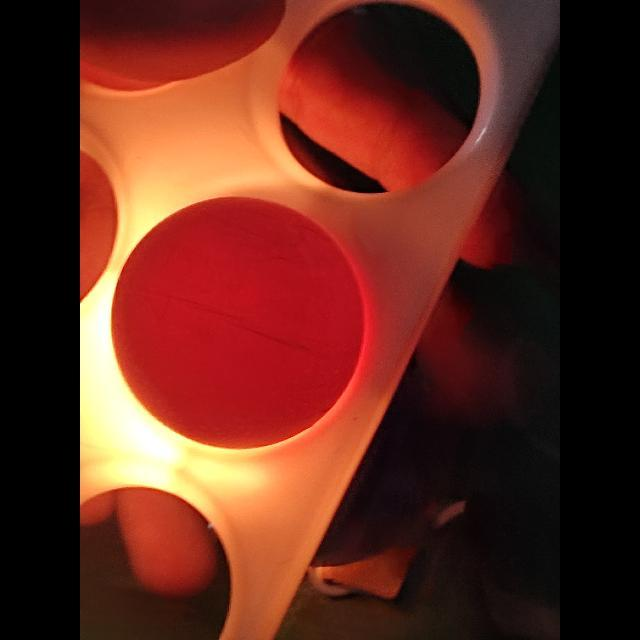Infertile: (108, 191, 368, 445)
